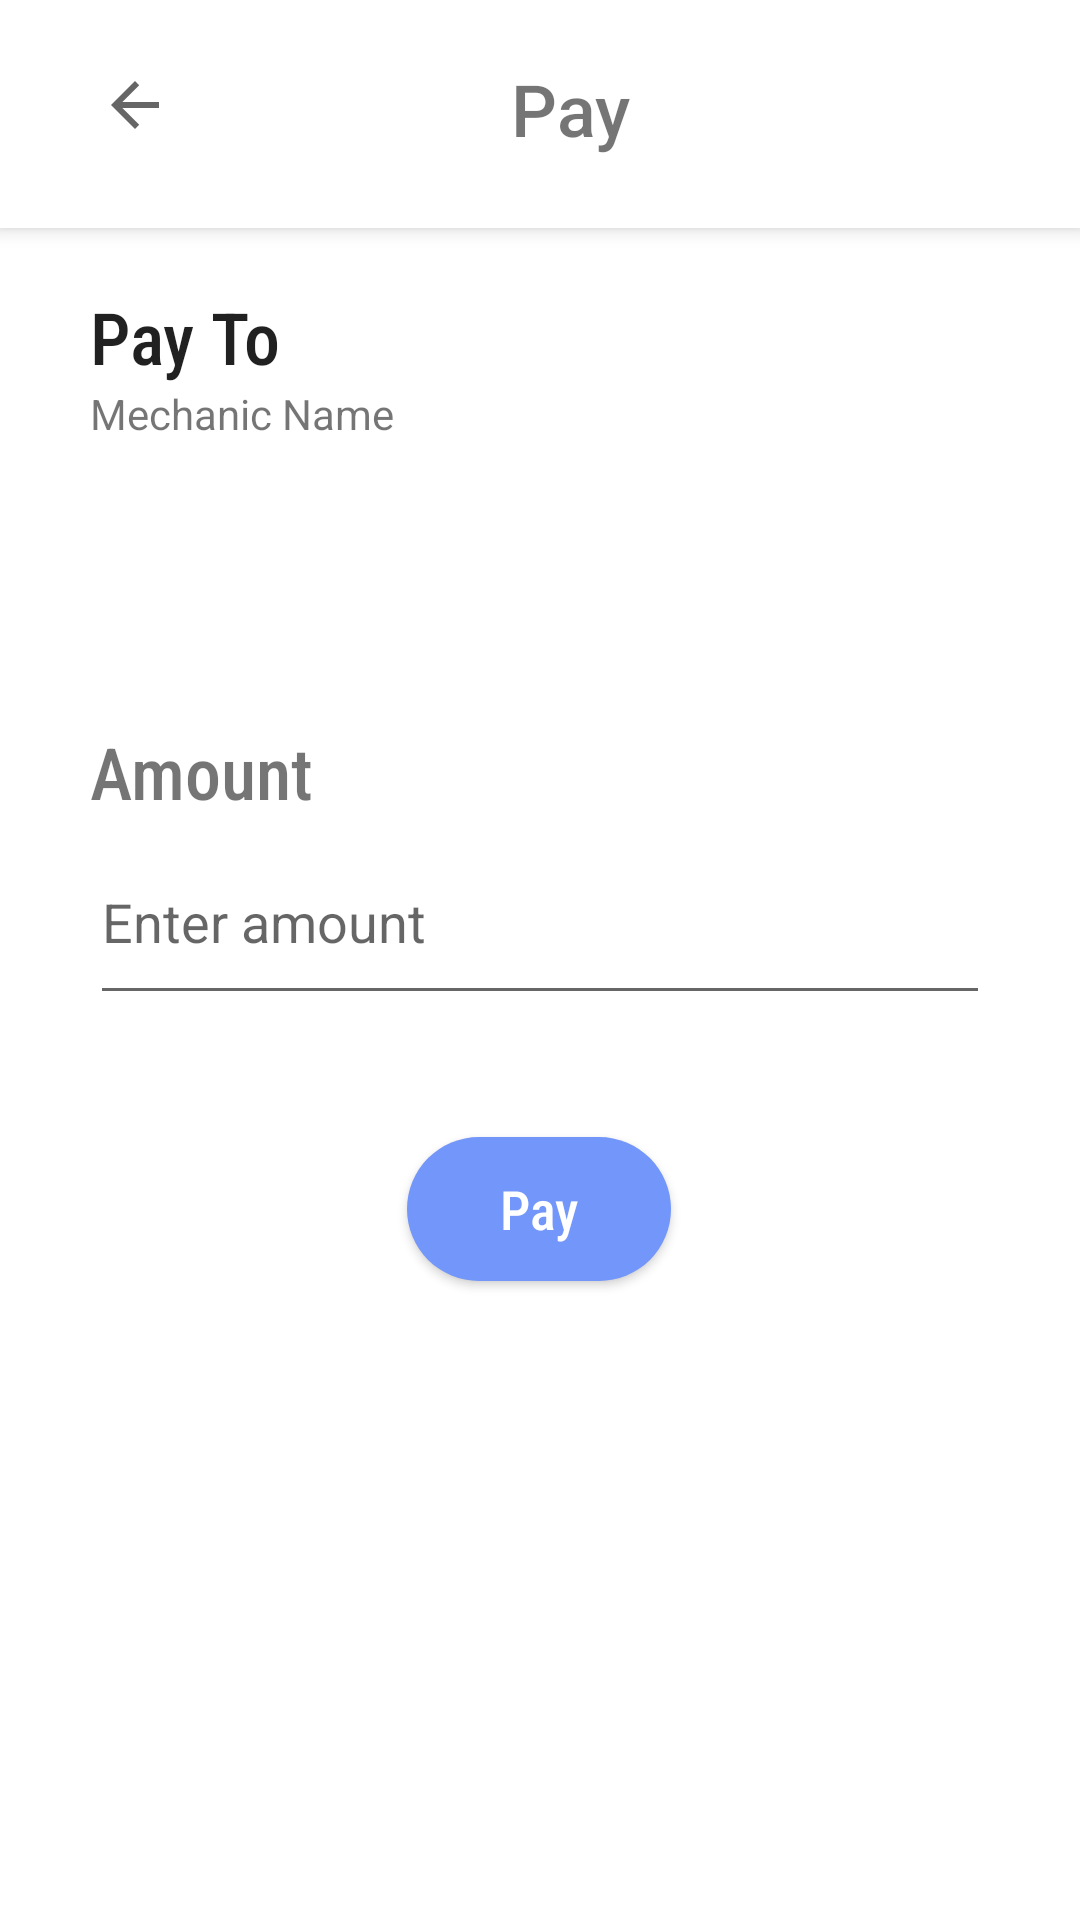

Named icons in this screenshot (1080*1920) and their bounding boxes, bbox(x1, y1, x2, y2):
Back To Menu: bbox(111, 81, 159, 129)
